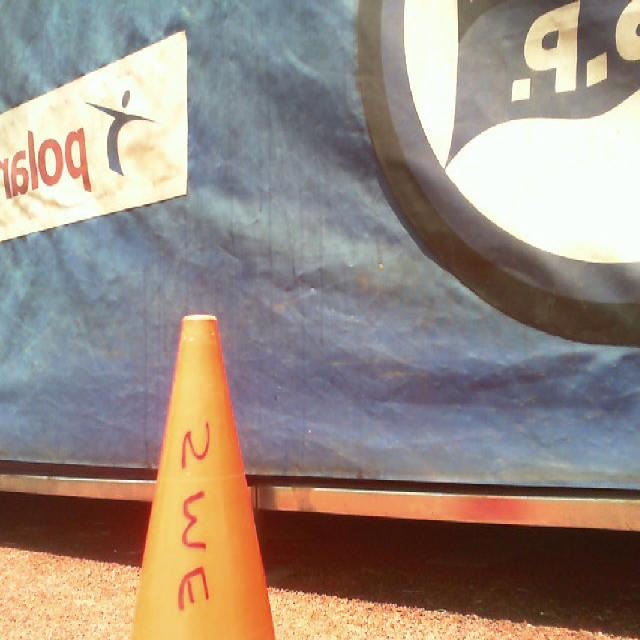cone: (134, 314, 277, 640)
